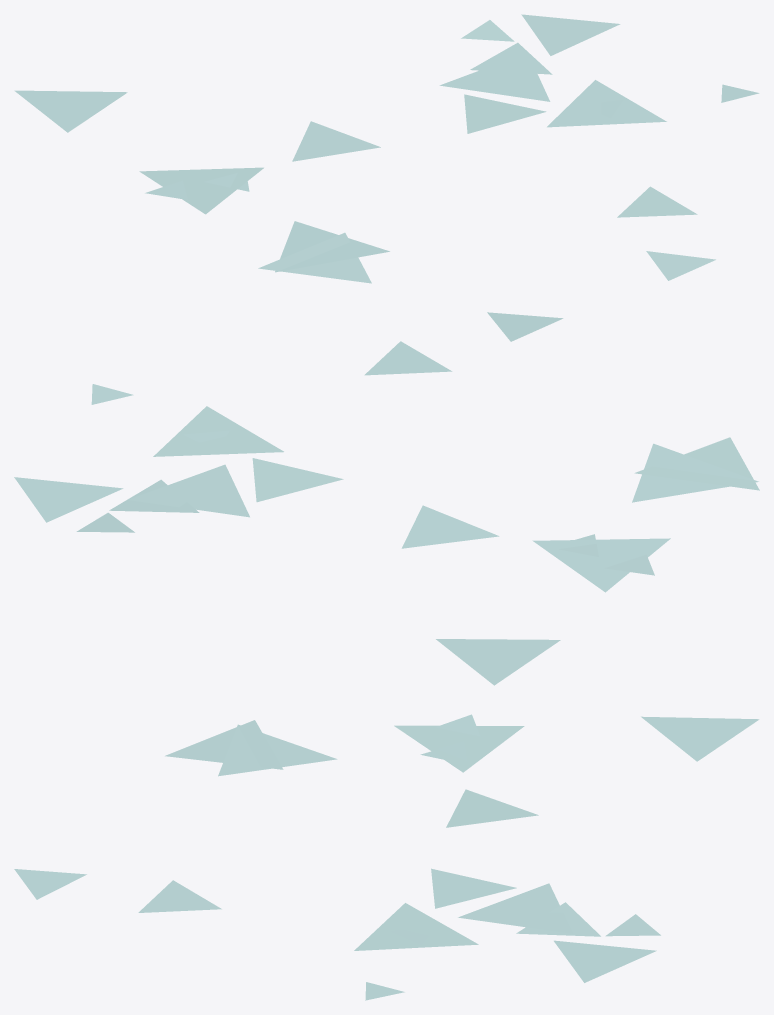
File: tea_glass_shards.glb
3 renders of one model, top to bottom at view 1: azimuth 30°, elevation 25°; view 2: azimuth 150°, elevation 25°; view 3: azimuth 270°, elevation 25°, orthographic. The views are drawn at different scales.
Parts seen in each view (by area): view 1: scattered triangular fragment.009, scattered triangular fragment.014, scattered triangular fragment.004, scattered triangular fragment.001, scattered triangular fragment.002, scattered triangular fragment.015, scattered triangular fragment.016, scattered triangular fragment.007, scattered triangular fragment.011, scattered triangular fragment.008, scattered triangular fragment.005, scattered triangular fragment.006 (+1 smaller); view 2: scattered triangular fragment.004, scattered triangular fragment.009, scattered triangular fragment.014, scattered triangular fragment.001, scattered triangular fragment.015, scattered triangular fragment.016, scattered triangular fragment.002, scattered triangular fragment.007, scattered triangular fragment.011, scattered triangular fragment.008, scattered triangular fragment.005, scattered triangular fragment.006 (+1 smaller); view 3: scattered triangular fragment.009, scattered triangular fragment.014, scattered triangular fragment.001, scattered triangular fragment.004, scattered triangular fragment.015, scattered triangular fragment.002, scattered triangular fragment.016, scattered triangular fragment.011, scattered triangular fragment.007, scattered triangular fragment.008, scattered triangular fragment.005, scattered triangular fragment.006 (+2 smaller).
Boxes of the visible parts, <box> form: scattered triangular fragment.009: <box>439,52,550,101</box>; scattered triangular fragment.014: <box>547,80,666,127</box>; scattered triangular fragment.004: <box>139,167,263,214</box>; scattered triangular fragment.001: <box>14,90,127,132</box>; scattered triangular fragment.002: <box>258,232,371,283</box>; scattered triangular fragment.015: <box>275,221,389,272</box>; scattered triangular fragment.016: <box>521,14,620,55</box>; scattered triangular fragment.007: <box>292,121,380,161</box>; scattered triangular fragment.011: <box>464,94,546,133</box>; scattered triangular fragment.008: <box>617,186,697,217</box>; scattered triangular fragment.005: <box>646,251,715,280</box>; scattered triangular fragment.006: <box>470,42,552,74</box>; scattered triangular fragment.004: <box>532,538,670,592</box>; scattered triangular fragment.009: <box>128,464,249,517</box>; scattered triangular fragment.014: <box>153,406,283,456</box>; scattered triangular fragment.001: <box>436,639,560,685</box>; scattered triangular fragment.015: <box>632,443,758,502</box>; scattered triangular fragment.016: <box>14,477,123,522</box>; scattered triangular fragment.002: <box>634,437,759,490</box>; scattered triangular fragment.007: <box>401,505,499,548</box>; scattered triangular fragment.011: <box>252,458,343,502</box>; scattered triangular fragment.008: <box>364,341,452,375</box>; scattered triangular fragment.005: <box>487,312,563,341</box>; scattered triangular fragment.006: <box>109,479,199,512</box>; scattered triangular fragment.009: <box>458,883,573,933</box>; scattered triangular fragment.014: <box>354,903,478,950</box>; scattered triangular fragment.001: <box>641,716,759,761</box>; scattered triangular fragment.004: <box>394,725,524,772</box>; scattered triangular fragment.015: <box>218,724,337,776</box>; scattered triangular fragment.002: <box>165,720,283,769</box>; scattered triangular fragment.016: <box>554,940,656,982</box>; scattered triangular fragment.011: <box>431,868,516,908</box>; scattered triangular fragment.007: <box>446,789,538,827</box>; scattered triangular fragment.008: <box>138,880,221,912</box>; scattered triangular fragment.005: <box>14,869,86,899</box>; scattered triangular fragment.006: <box>516,902,600,936</box>.
Size of the model in its own units: 1.15 by 0.00484 by 1.27.
1 material, 1 textured.
